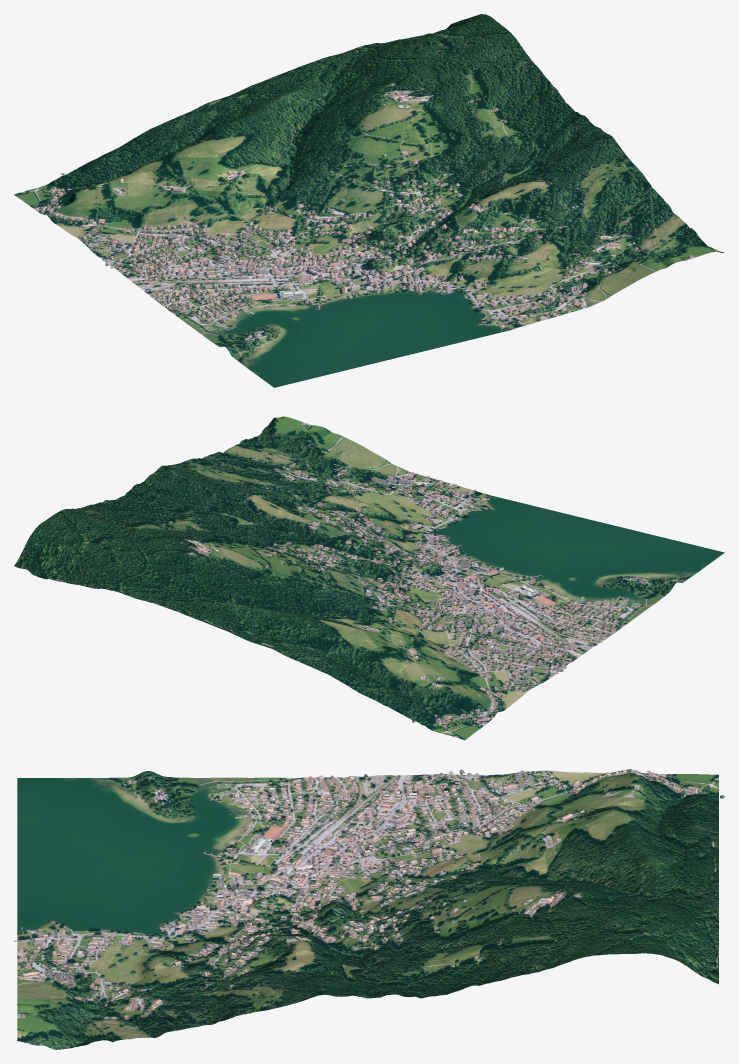
File: asset.glb
3 views of the same model, one above another, from view 1: azimuth 30°, elevation 25°; view 2: azimuth 150°, elevation 25°; view 3: azimuth 270°, elevation 25° (orthographic). The views are drawn at different scales.
Visible parts, largest first — view 1: DGM_Schliersee_10m, Dach, Wand; view 2: DGM_Schliersee_10m, Dach, Wand; view 3: DGM_Schliersee_10m, Dach, Wand.
Boxes of the visible parts, x1,y1,x2,y2 form: DGM_Schliersee_10m: [14, 14, 724, 387]; Dach: [32, 67, 691, 355]; Wand: [33, 68, 692, 355]; DGM_Schliersee_10m: [14, 416, 724, 740]; Dach: [122, 423, 677, 727]; Wand: [124, 424, 677, 728]; DGM_Schliersee_10m: [17, 769, 718, 1049]; Dach: [14, 769, 724, 1037]; Wand: [14, 770, 724, 1037].
Size of the model in its own units: 2005 by 384 by 2016.
7 materials, 3 textured.
